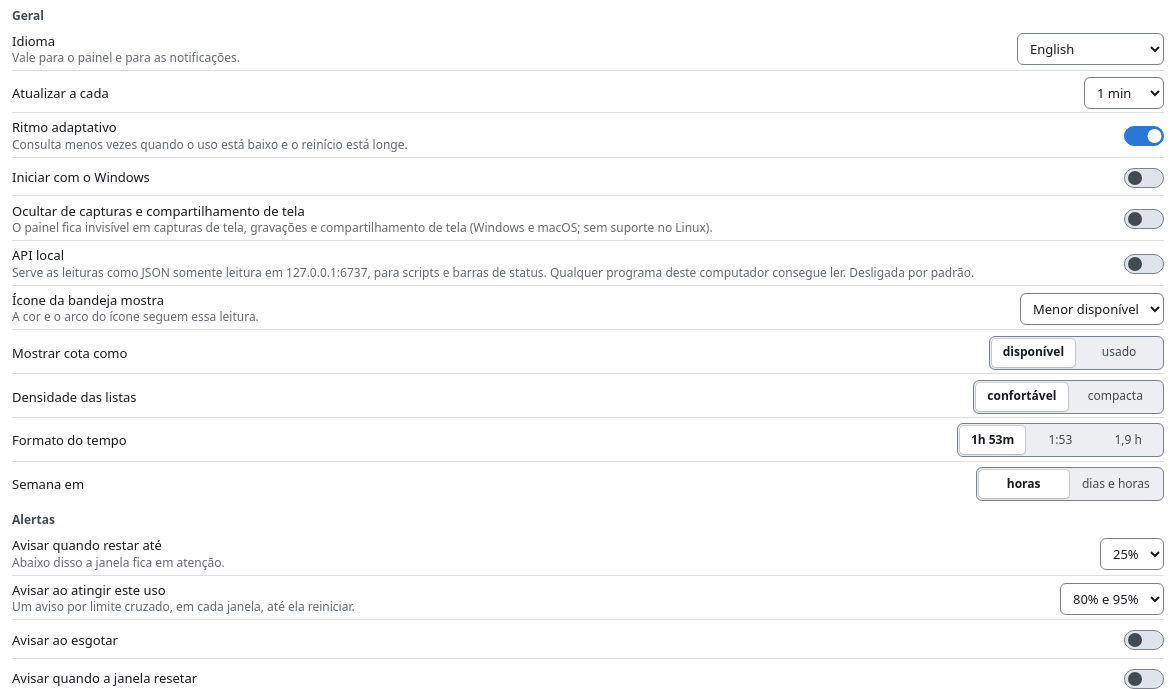
Test: a refused save › is spoken, because focus stays on the control that was used
Step 1. Click the switch labelled "Iniciar com o Windows" → point(1144, 178), box left=1124, top=168, right=1164, bottom=188
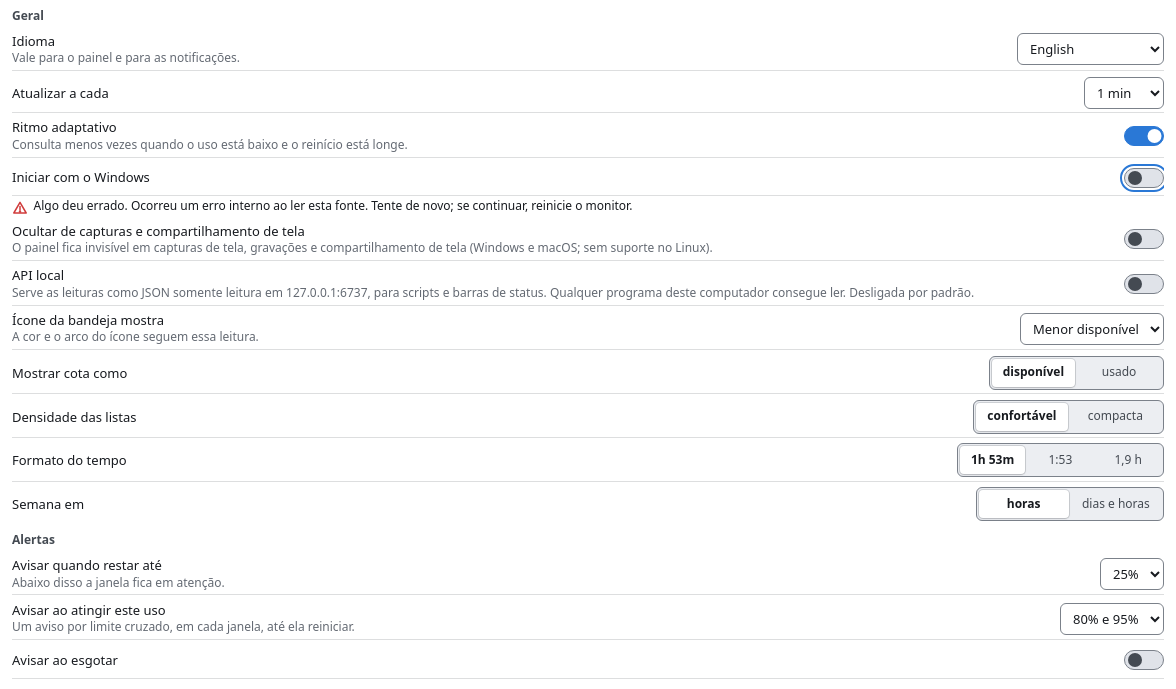
Check: the message shows "Algo deu errado.", box left=34, top=197, right=632, bottom=214
